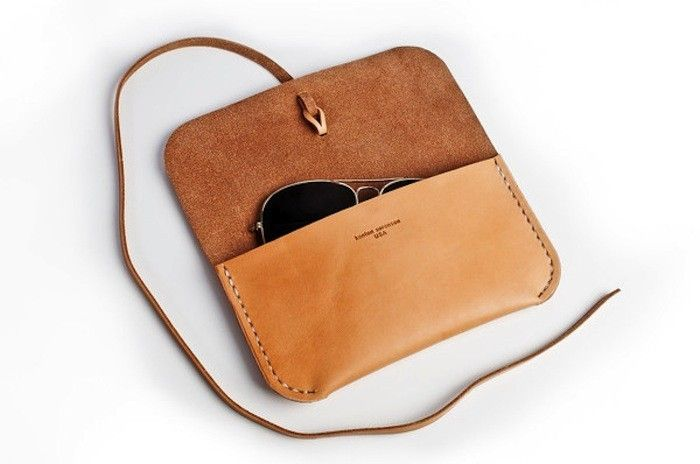cuero: (114, 36, 621, 439)
